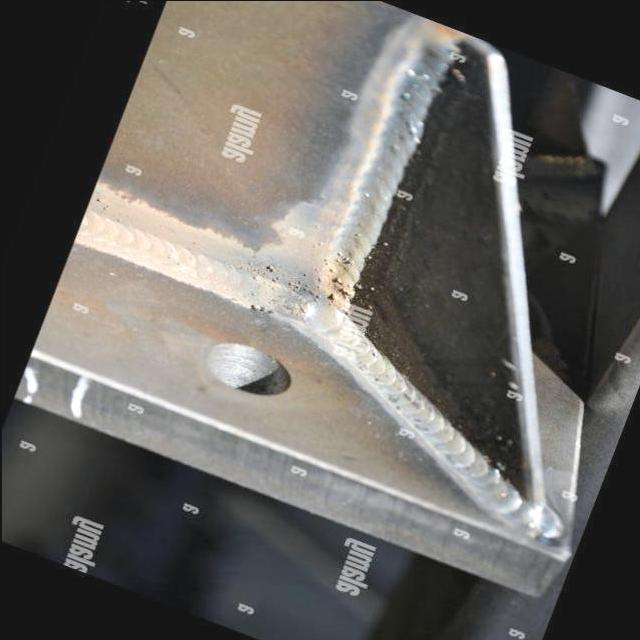defect: (321, 249, 355, 308), (284, 272, 321, 302), (264, 261, 281, 273), (248, 301, 264, 312), (250, 272, 261, 281), (269, 275, 280, 282)
